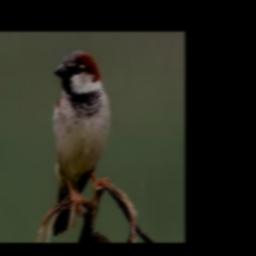Sparrow: (52, 50, 112, 235)
